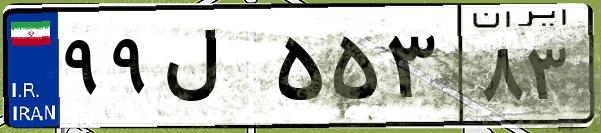3: (385, 28, 445, 110), (525, 38, 570, 115)
5: (270, 28, 330, 110), (330, 28, 385, 110)
8: (475, 38, 525, 113)
9: (57, 26, 110, 100), (110, 28, 158, 98)
ل: (158, 20, 270, 120)
